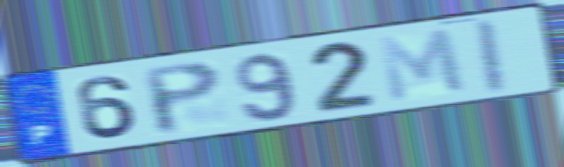2: (312, 38, 383, 117)
6: (74, 75, 140, 141)
9: (232, 50, 300, 123)
I: (477, 15, 512, 98)
M: (374, 25, 471, 106)
P: (139, 58, 225, 137)
